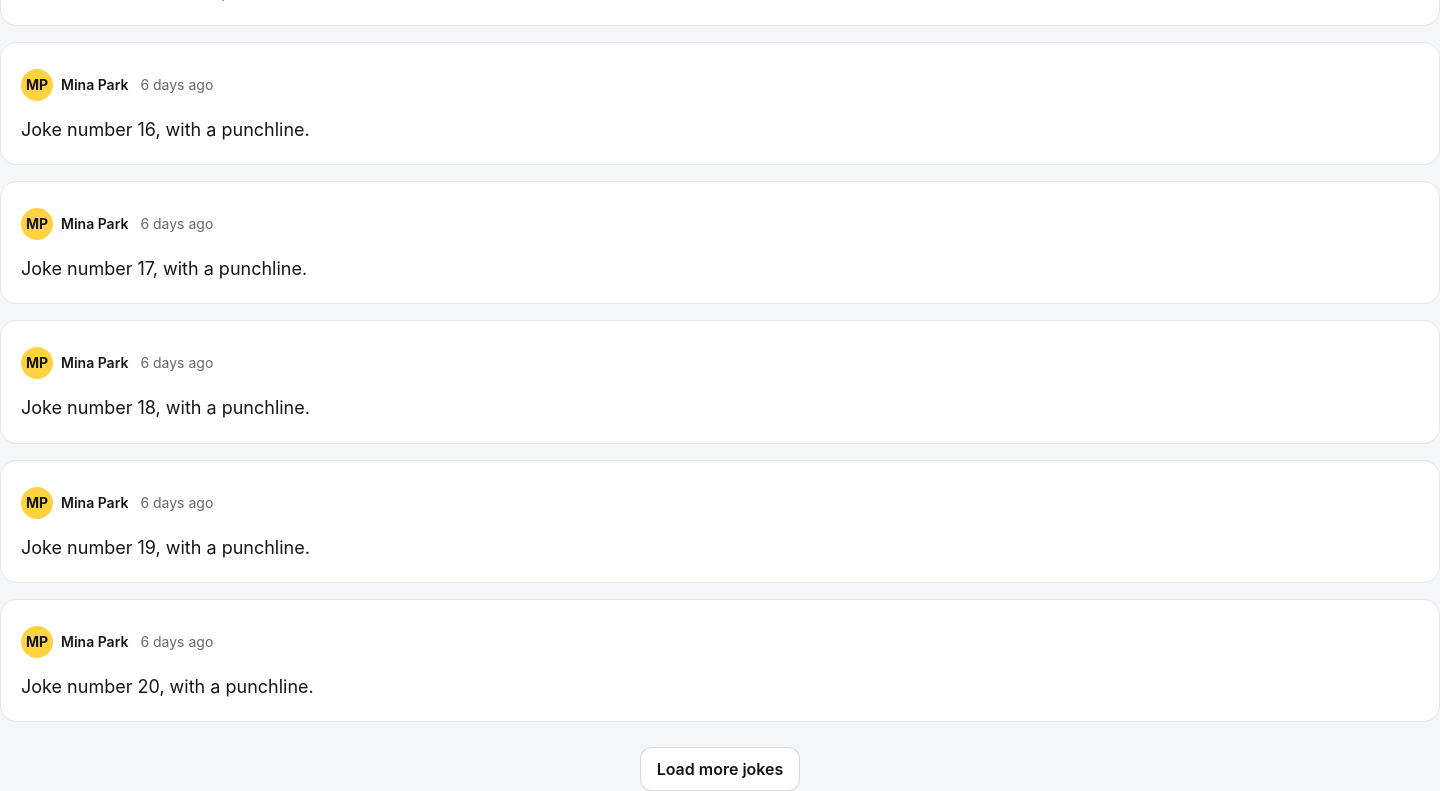
Test: LazyJokeList › shows 2 skeletons and announces loading while a batch is in flight
(page scrolled)
Click the button "Load more jokes" at (720, 769), box [640,747,800,790]
(page scrolled)
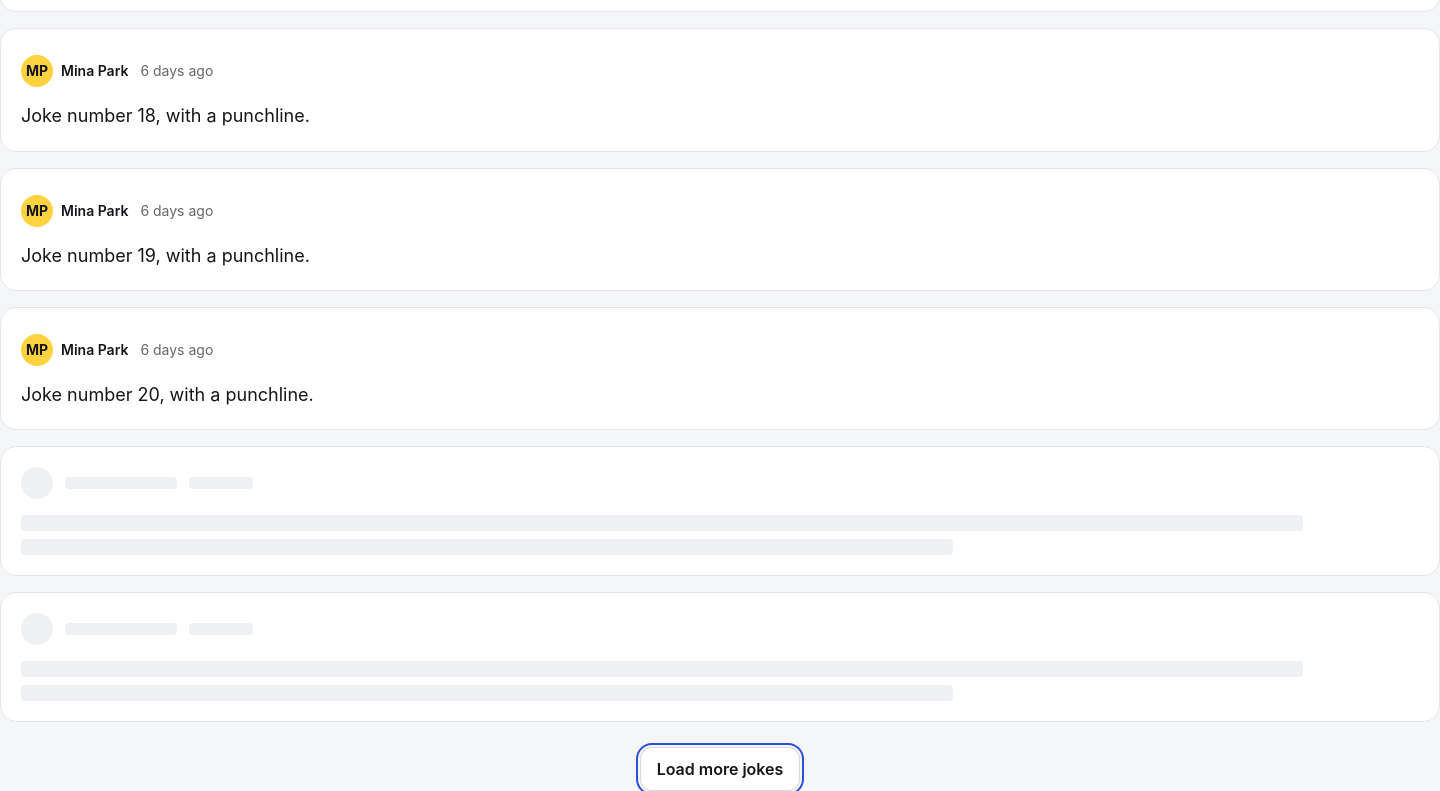
Check: the number of elements with test id "joke-skeleton" is 2, box [0,446,1439,576]; [0,592,1439,722]
Click the button "Load more jokes" at (720, 769), box [640,747,800,790]
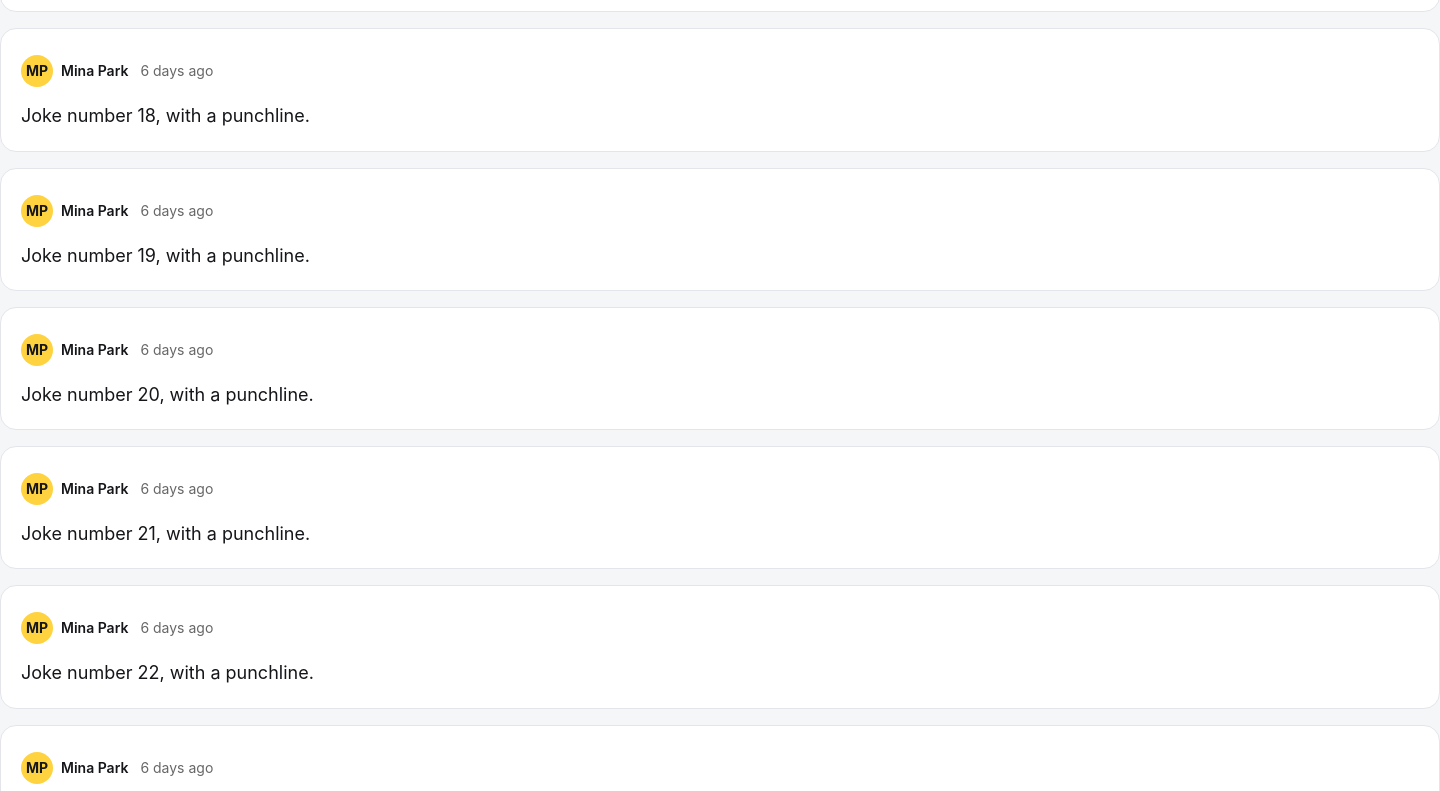
Check: no elements with test id "joke-skeleton" are shown
